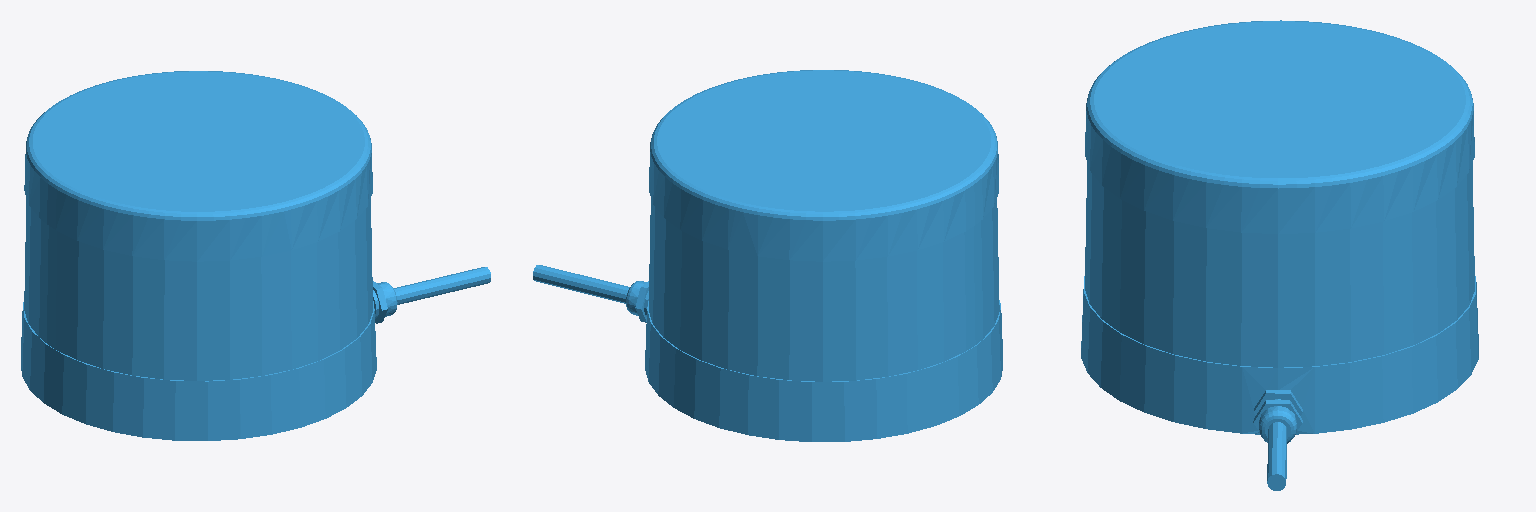
The robot description file, URDF, robot "Pix_molde":
<?xml version="1.0" encoding="utf-8"?>
<!-- This URDF was automatically created by SolidWorks to URDF Exporter! Originally created by [author] ([email redacted]) 
     Commit Version: 1.6.0-4-g7f85cfe  Build Version: 1.6.7995.38578
     For more information, please see http://wiki.ros.org/sw_urdf_exporter -->
<robot
  name="Pix_molde">
  <link
    name="base_link">
    <inertial>
      <origin
        xyz="0.106103092514261 -0.0660548565177884 0.38026650655333"
        rpy="0 0 0" />
      <mass
        value="36.9114288093113" />
      <inertia
        ixx="3.97522574306112"
        ixy="0.0215069469217656"
        ixz="0.209652975962014"
        iyy="7.73350286330966"
        iyz="-0.168672732712015"
        izz="8.08401632977592" />
    </inertial>
    <visual>
      <origin
        xyz="0 0 0"
        rpy="0 0 0" />
      <geometry>
        <mesh
          filename="package://Pix_molde/meshes/base_link.STL" />
      </geometry>
      <material
        name="">
        <color
          rgba="0.792156862745098 0.819607843137255 0.933333333333333 1" />
      </material>
    </visual>
    <collision>
      <origin
        xyz="0 0 0"
        rpy="0 0 0" />
      <geometry>
        <mesh
          filename="package://Pix_molde/meshes/base_link.STL" />
      </geometry>
    </collision>
  </link>
  <link
    name="imu_link">
    <inertial>
      <origin
        xyz="0.0992871676063133 0.00260392805642422 0.16143239375831"
        rpy="0 0 0" />
      <mass
        value="36.3361485747687" />
      <inertia
        ixx="0.777779364343093"
        ixy="-0.00174072222877737"
        ixz="2.99919128612729E-05"
        iyy="0.904028245623736"
        iyz="0.00147871064515462"
        izz="1.28965317758837" />
    </inertial>
    <visual>
      <origin
        xyz="0 0 0"
        rpy="0 0 0" />
      <geometry>
        <mesh
          filename="package://Pix_molde/meshes/imu_link.STL" />
      </geometry>
      <material
        name="">
        <color
          rgba="0.792156862745098 0.819607843137255 0.933333333333333 1" />
      </material>
    </visual>
    <collision>
      <origin
        xyz="0 0 0"
        rpy="0 0 0" />
      <geometry>
        <mesh
          filename="package://Pix_molde/meshes/imu_link.STL" />
      </geometry>
    </collision>
  </link>
  <joint
    name="imu_joint"
    type="fixed">
    <origin
      xyz="0.00836000535046235 -0.0686135902865697 0.207673724848016"
      rpy="0 0 0" />
    <parent
      link="base_link" />
    <child
      link="imu_link" />
    <axis
      xyz="0 0 0" />
  </joint>
  <link
    name="laser">
    <inertial>
      <origin
        xyz="0.000186968494254437 9.24112459790849E-07 0.028361663549632"
        rpy="0 0 0" />
      <mass
        value="0.575300444135117" />
      <inertia
        ixx="0.000614176045984101"
        ixy="7.11988858909715E-08"
        ixz="3.05384811876351E-06"
        iyy="0.000622302509164523"
        iyz="2.14694151568173E-08"
        izz="0.00074092122915037" />
    </inertial>
    <visual>
      <origin
        xyz="0 0 0"
        rpy="0 0 0" />
      <geometry>
        <mesh
          filename="package://Pix_molde/meshes/laser.STL" />
      </geometry>
      <material
        name="">
        <color
          rgba="0.322156862745098 0.7219607843137255 0.953333333333333 1" />
      </material>
    </visual>
    <collision>
      <origin
        xyz="0 0 0"
        rpy="0 0 0" />
      <geometry>
        <mesh
          filename="package://Pix_molde/meshes/laser.STL" />
      </geometry>
    </collision>
  </link>
  <joint
    name="laser_joint"
    type="continuous">
    <origin
      xyz="0.00836000535045458 -0.0688872059195504 1.05681749492016"
      rpy="0 0 0" />
    <parent
      link="base_link" />
    <child
      link="laser" />
    <axis
      xyz="0 0 1" />
  </joint>
</robot>

--- What the picture shows (computed from the rendered views, not written in the file) ---
The picture shows the robot from 3 angles, left to right: view 1: azimuth 30°, elevation 25°; view 2: azimuth 150°, elevation 25°; view 3: azimuth 270°, elevation 25°; orthographic projection.
Robot: Pix_molde — 3 links, 2 joints (1 continuous, 1 fixed); root link base_link; default pose: every joint at zero.
Links seen in each view (by area): view 1: laser; view 2: laser; view 3: laser.
Boxes of the visible links, x1=… form: laser: x1=21, y1=71, x2=490, y2=440; laser: x1=533, y1=70, x2=1002, y2=441; laser: x1=1081, y1=20, x2=1478, y2=490.
Bounding box of the posed robot: 0.1477 × 0.1029 × 0.0717 m (x, y, z).
1 mesh visuals loaded from 3 distinct referenced files (1 binary STL); not drawn: 2 (reference not matched to a file when rendering).